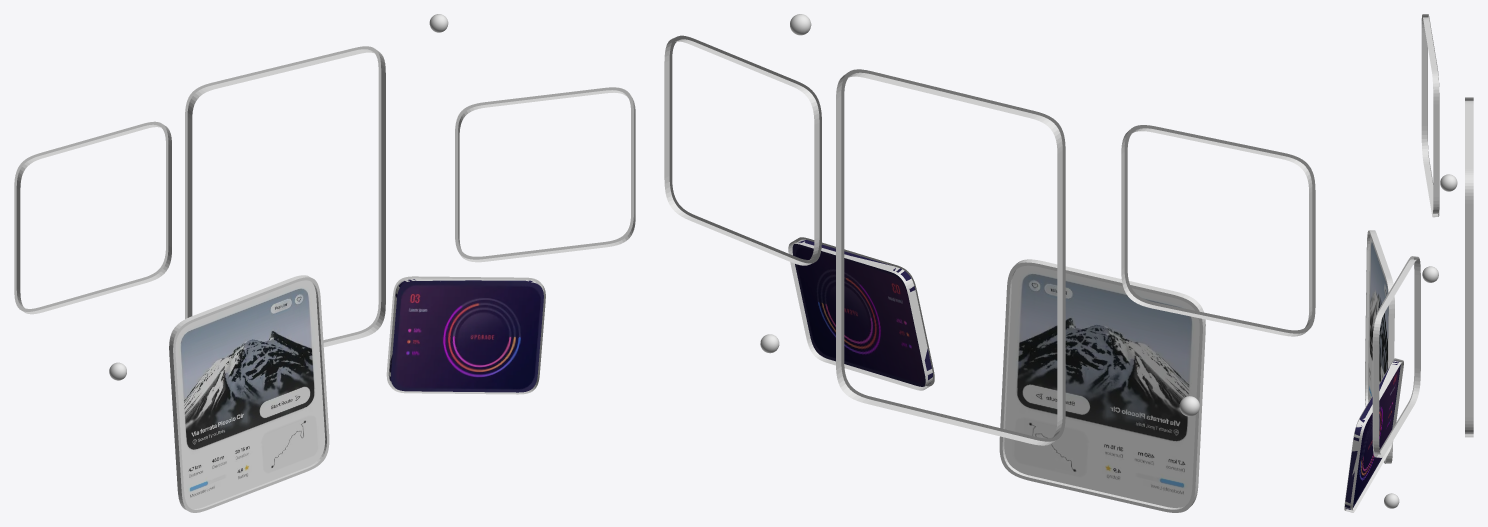
The model's file is hero-asset-transformed.glb.
3 renders of one model, left to right at view 1: azimuth 30°, elevation 25°; view 2: azimuth 150°, elevation 25°; view 3: azimuth 270°, elevation 25°, orthographic. The views are drawn at different scales.
Visible parts, largest first — view 1: surface_2.001, glow_1, surface_2; view 2: surface_2.001, glow_1, surface_2; view 3: glow_1, surface_2, surface_2.001.
Part boxes in pixels (bbox=[...]): surface_2.001: bbox=[175, 280, 325, 508]; glow_1: bbox=[14, 14, 635, 512]; surface_2: bbox=[389, 279, 543, 392]; surface_2.001: bbox=[1004, 265, 1199, 507]; glow_1: bbox=[664, 14, 1315, 512]; surface_2: bbox=[792, 240, 932, 386]; glow_1: bbox=[1344, 14, 1473, 512]; surface_2: bbox=[1345, 360, 1400, 509]; surface_2.001: bbox=[1368, 236, 1388, 401].
Size of the model in its own units: 6.43 by 4.1 by 1.31.
Materials: 2 (2 with a texture image).
